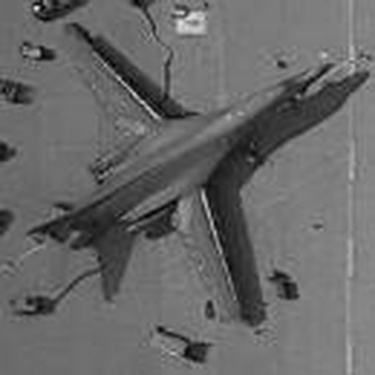airplane: (10, 14, 351, 334)
